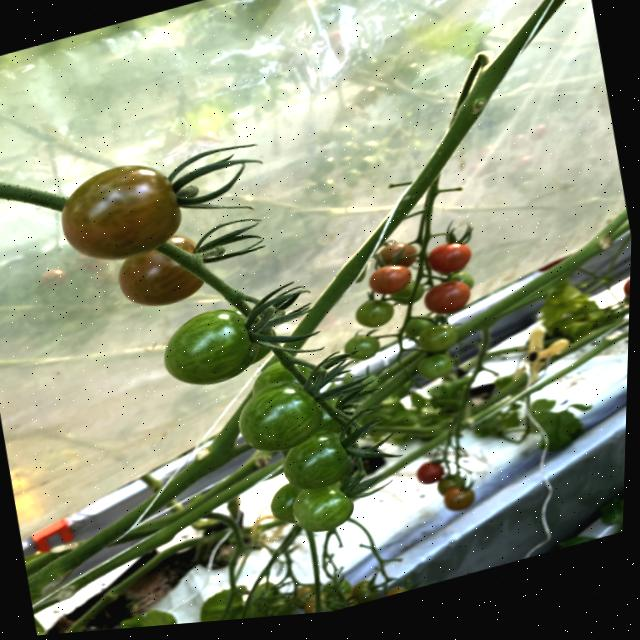ripe1: (57, 152, 184, 275)
ripe2: (156, 299, 262, 395), (234, 374, 328, 459)
